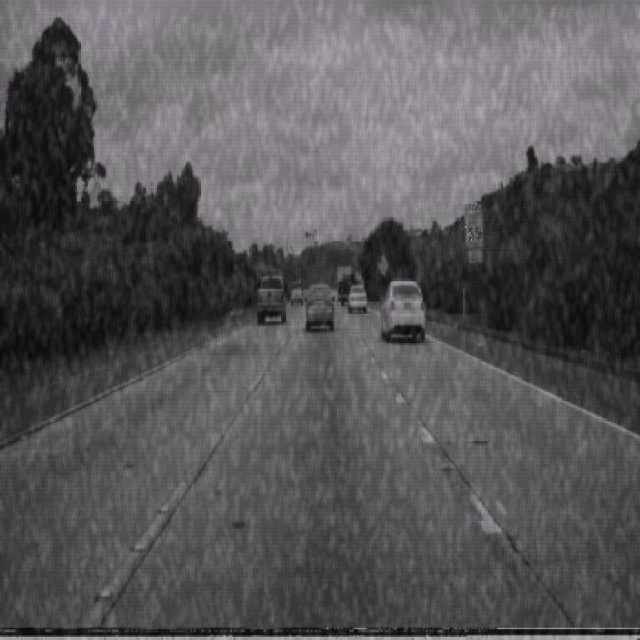truckSpeedLimit55: (463, 200, 484, 248)
